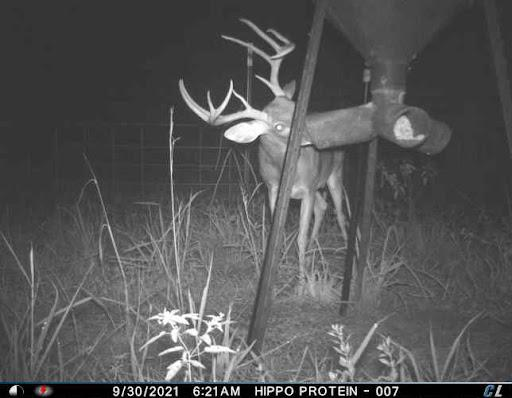Deer: (173, 12, 362, 287)
